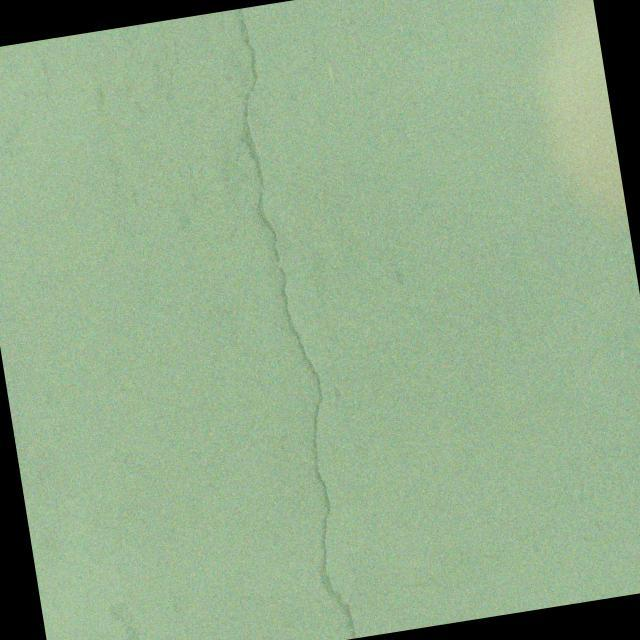crack: (211, 5, 362, 640), (374, 521, 555, 598), (543, 454, 640, 511)
